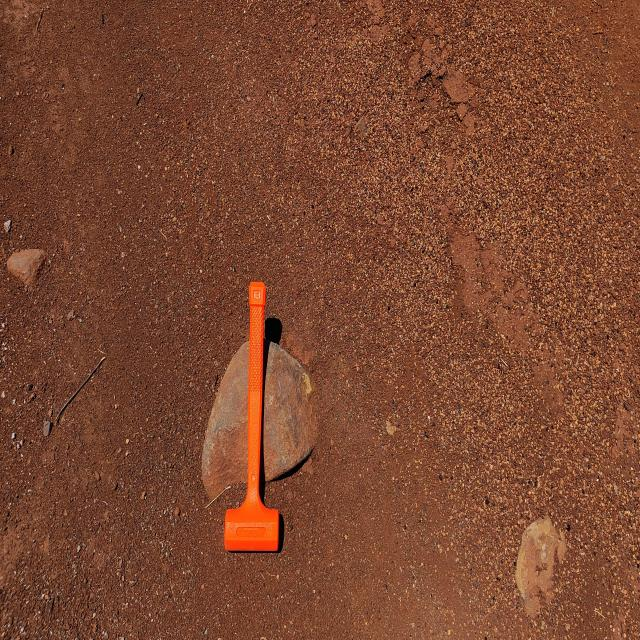Orange_hammer: (223, 280, 281, 553)
